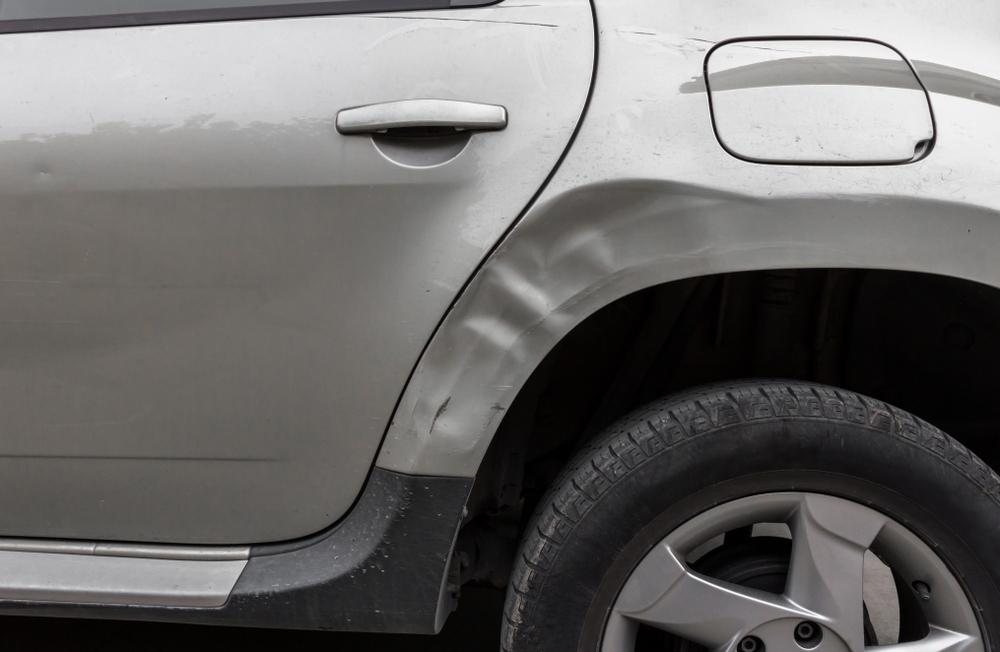dent: (405, 177, 725, 450)
